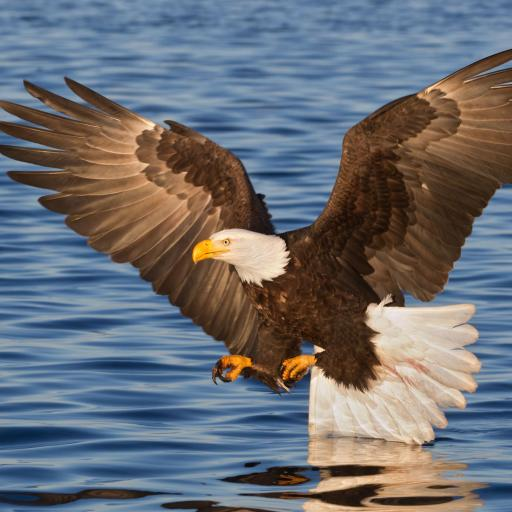eagle: (0, 34, 512, 509)
